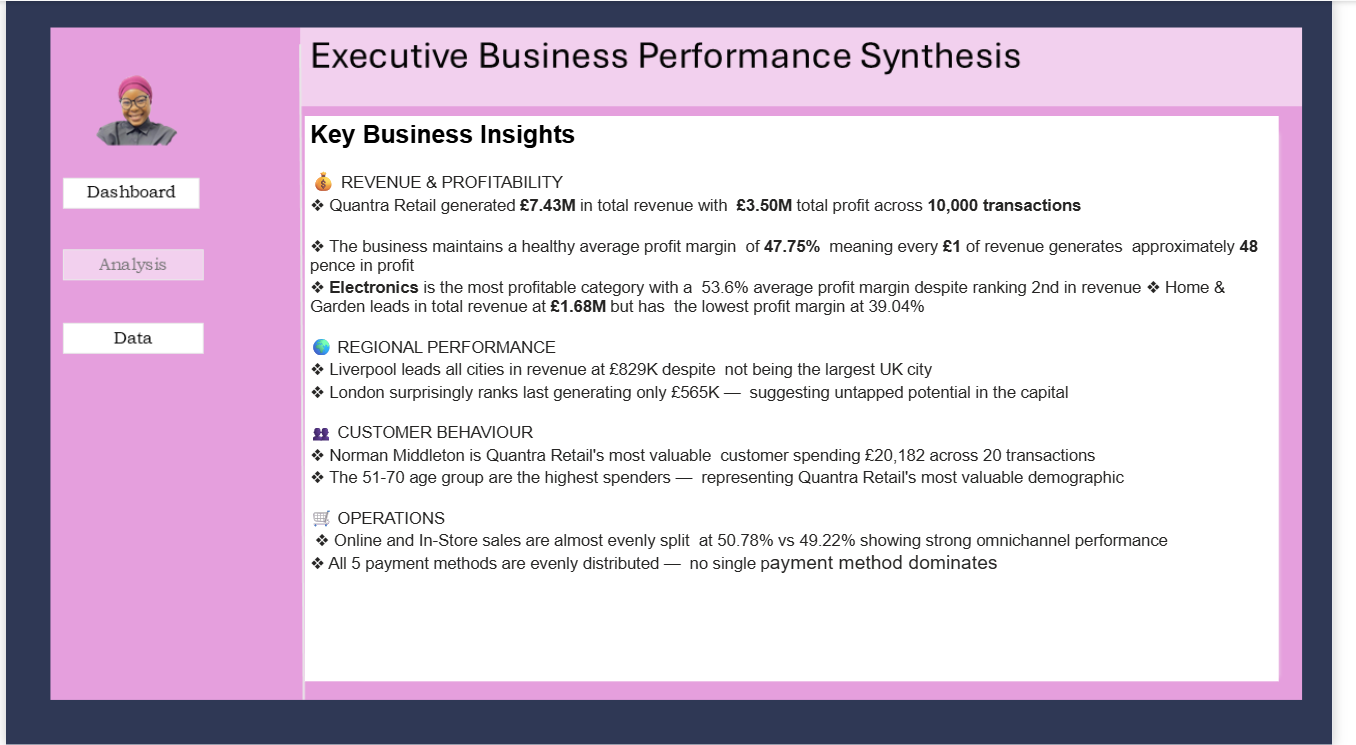

Layout of this report page (visuals, bound fields, positions):
{"tool":"powerbi","page":{"name":"Insights","canvas":[1280,720],"ordinal":5},"visuals":[{"type":"textbox","box":[288.3,111,939.8,545.3],"z":0}]}

Visuals, with their boxes on the page's 1280x720 design canvas (x1, y1, x2, y2). These are canvas units, not pixel positions in the 1356x745 screenshot, which may show the page scaled, cropped or inside an application window:
textbox: bbox=[288, 111, 1228, 656]
